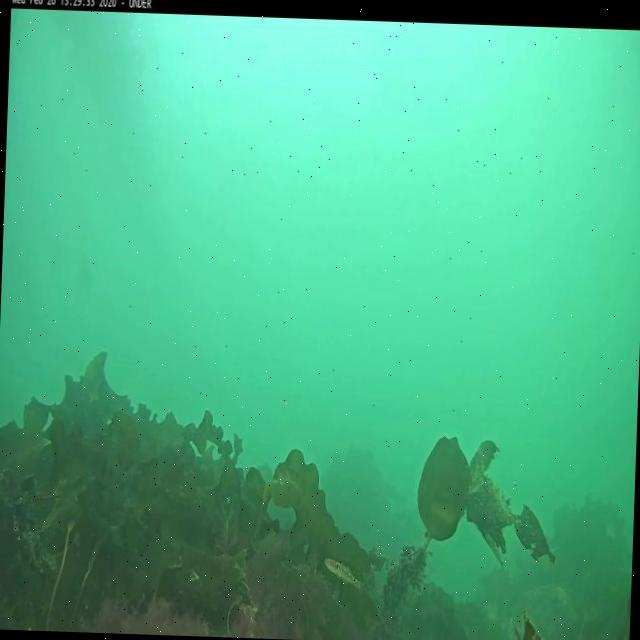fish: (321, 553, 363, 590)
